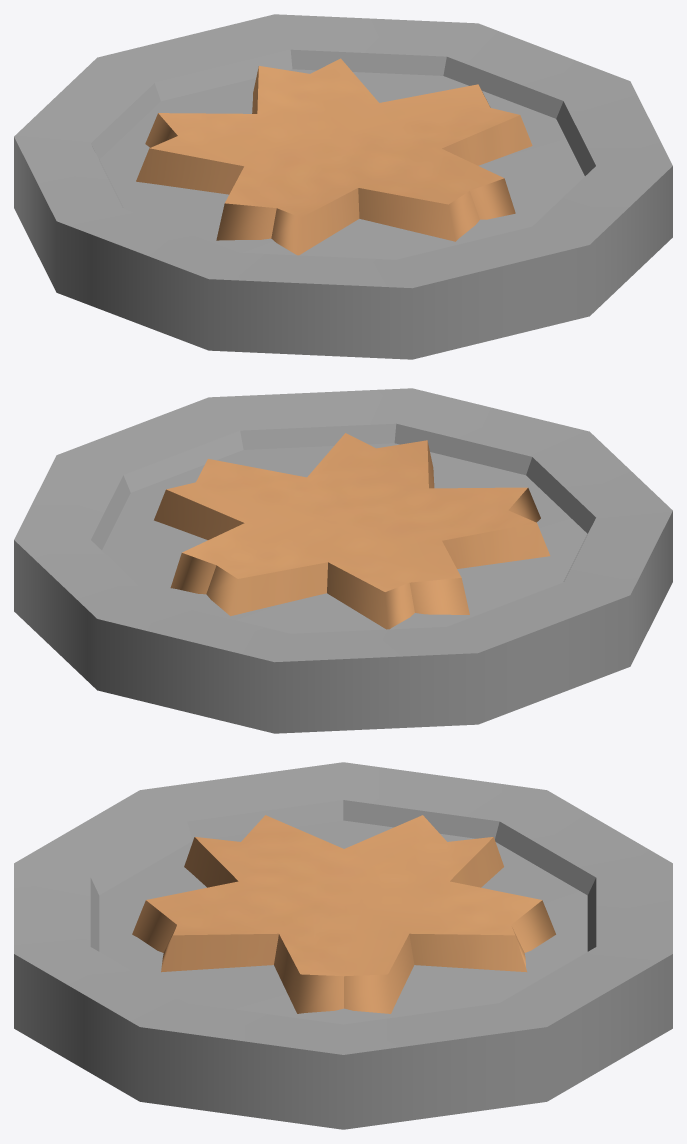
The model's file is Coin.fbx.
3 views of the same model, one above another, from view 1: azimuth 30°, elevation 25°; view 2: azimuth 150°, elevation 25°; view 3: azimuth 270°, elevation 25° (orthographic). The views are drawn at different scales.
Parts seen in each view (by area): view 1: pCylinder22; view 2: pCylinder22; view 3: pCylinder22.
Part boxes in pixels (x1,y1,x2,y2): pCylinder22: (14,14,672,359); pCylinder22: (14,388,672,733); pCylinder22: (14,762,672,1129).
Bounding box in the file's own units: 26.9 × 4.39 × 25.58.
